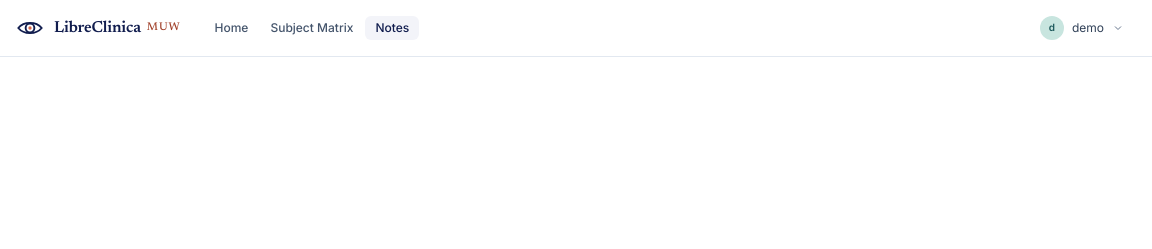
Test: TopBar › keeps the version and build in the profile menu
The width and height of the screenshot is (1152, 249).
Click the button with test id "topbar-profile-trigger" at (1084, 28), box left=1032, top=12, right=1136, bottom=44
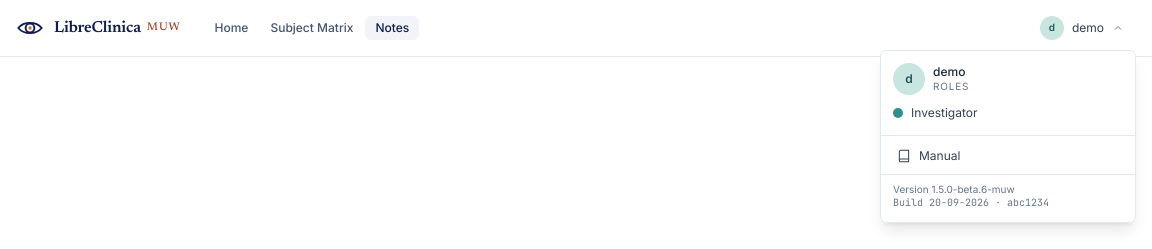
Now the element with test id "topbar-version" shows "1.5.0-beta.6-muw", box left=893, top=183, right=1015, bottom=195
Now the element with test id "topbar-version" shows "abc1234", box left=893, top=196, right=1049, bottom=209
